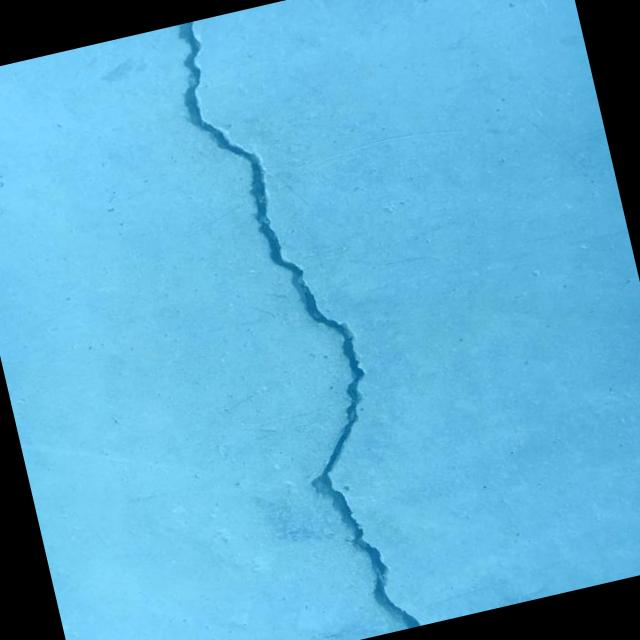crack: (163, 1, 423, 640)
